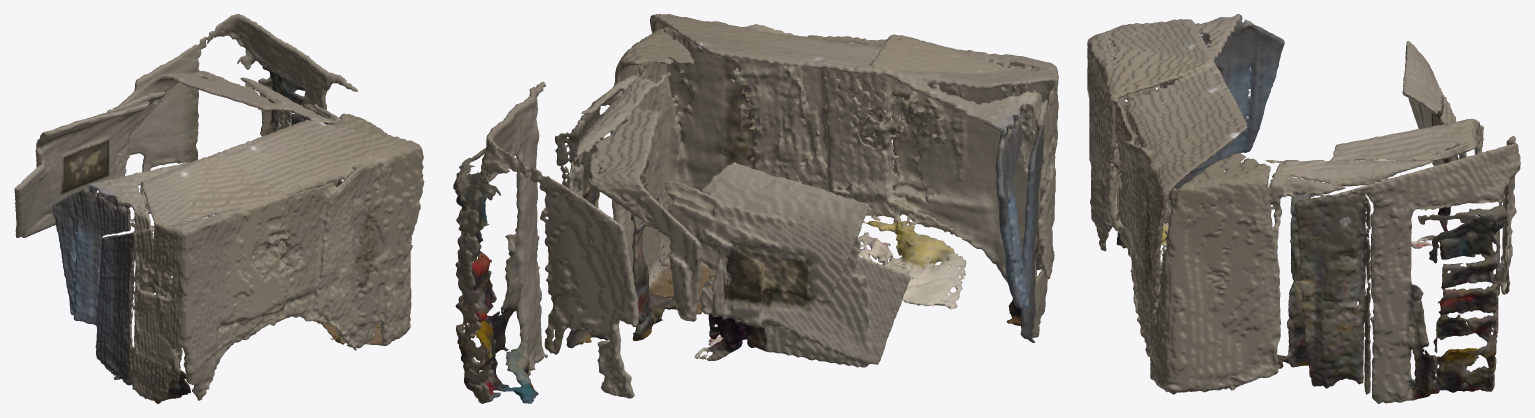
Rendered from room.glb.
The picture shows the model from 3 angles, left to right: view 1: azimuth 30°, elevation 25°; view 2: azimuth 150°, elevation 25°; view 3: azimuth 270°, elevation 25°; orthographic projection. The views are drawn at different scales.
Bounding box in the file's own units: 4.64 × 2.95 × 4.7.
